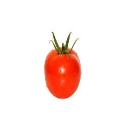tomato: (44, 29, 81, 99)
